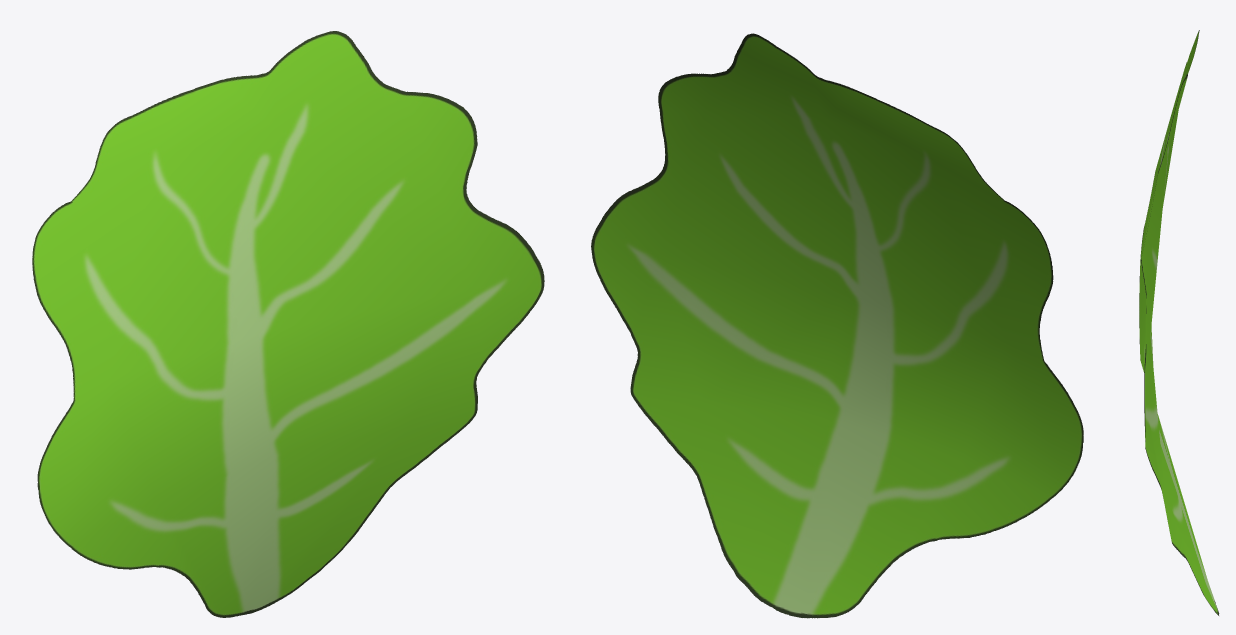
The model's file is LettuceWall_Model.fbx.
3 views of the same model, side by side, from view 1: azimuth 30°, elevation 25°; view 2: azimuth 150°, elevation 25°; view 3: azimuth 270°, elevation 25° (orthographic). The views are drawn at different scales.
Parts seen in each view (by area): view 1: LettuceWall; view 2: LettuceWall; view 3: LettuceWall.
Part boxes in pixels (x1,y1,x2,y2): LettuceWall: (32, 31, 544, 617); LettuceWall: (591, 33, 1083, 618); LettuceWall: (1139, 30, 1219, 615).
Size of the model in its own units: 0.8311 by 0.8846 by 0.1195.
